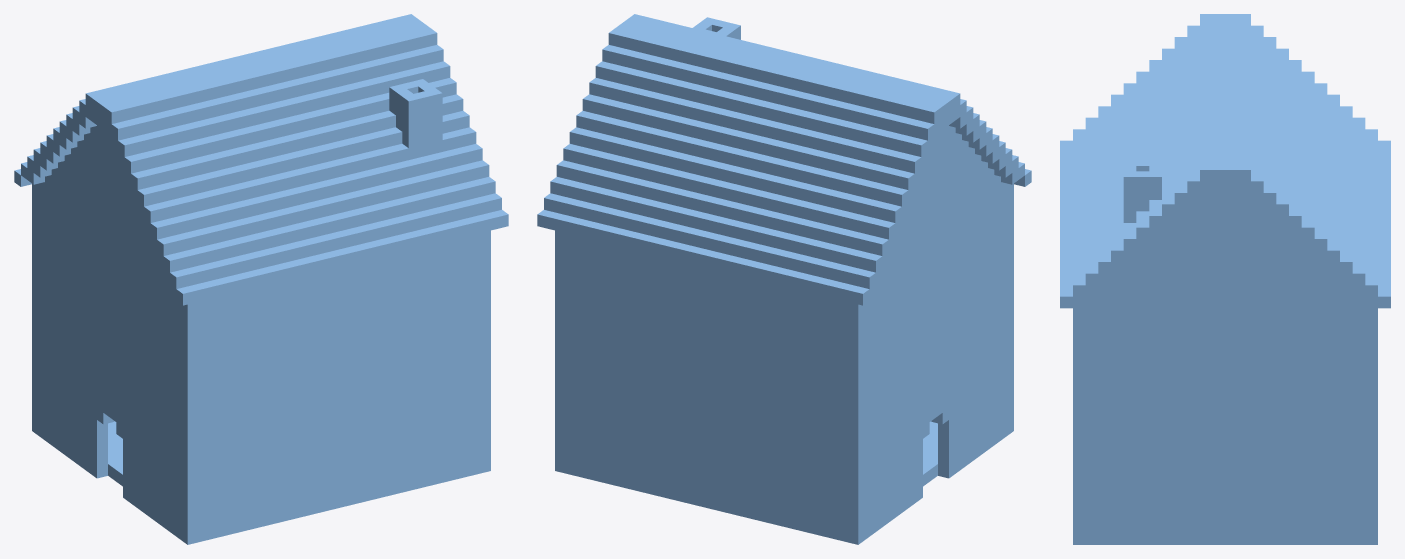
Rendered from house1.glb.
3 renders of one model, left to right at view 1: azimuth 30°, elevation 25°; view 2: azimuth 150°, elevation 25°; view 3: azimuth 270°, elevation 25°, orthographic.
Parts seen in each view (by area): view 1: Untitled; view 2: Untitled; view 3: Untitled.
Part boxes in pixels (<box>): Untitled: <box>14,14,508,544</box>; Untitled: <box>537,14,1031,544</box>; Untitled: <box>1060,14,1390,544</box>.
Size of the model in its own units: 11.6 by 13.2 by 10.4.
Materials: 1 (1 with a texture image).
